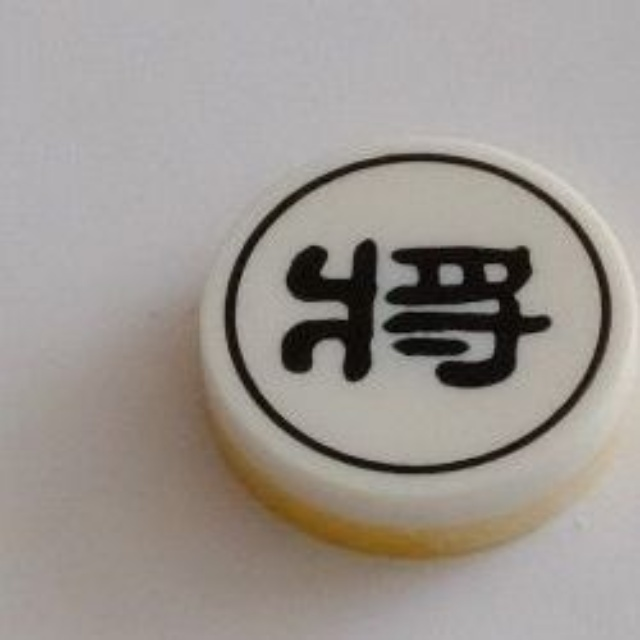black_tuong: (184, 130, 640, 570)
